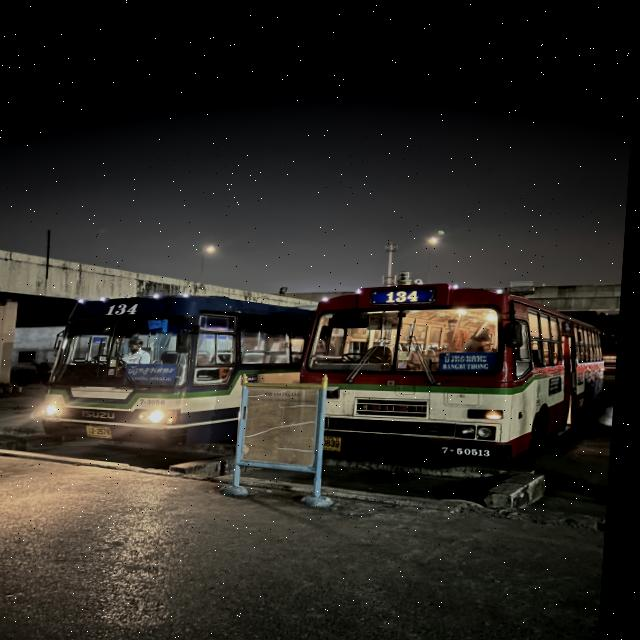BMTA-bus: (299, 280, 613, 507), (48, 295, 319, 448)
Bus-Line-Number: (383, 290, 431, 303), (109, 300, 143, 316)
Destination-Sign-Normal: (129, 361, 185, 385), (444, 351, 507, 372)
